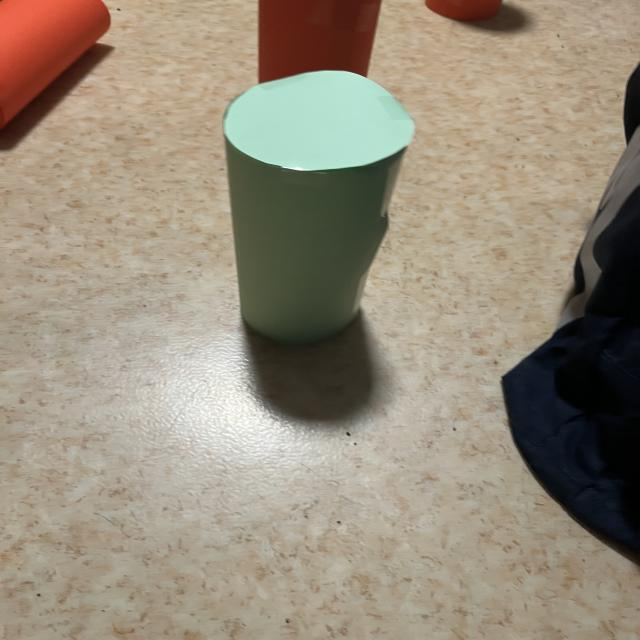meta: (223, 71, 415, 343)
